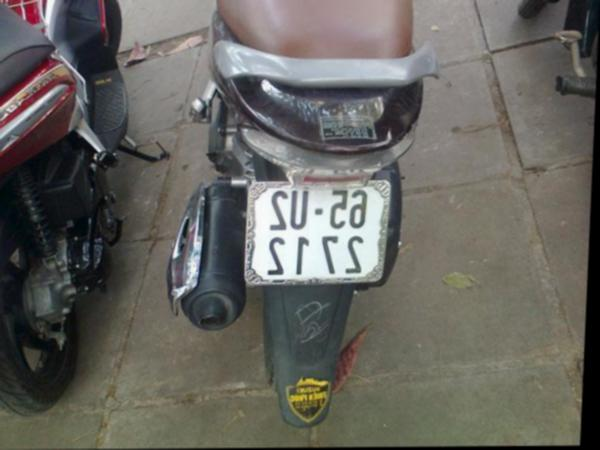License_Plate: (247, 180, 388, 287)
